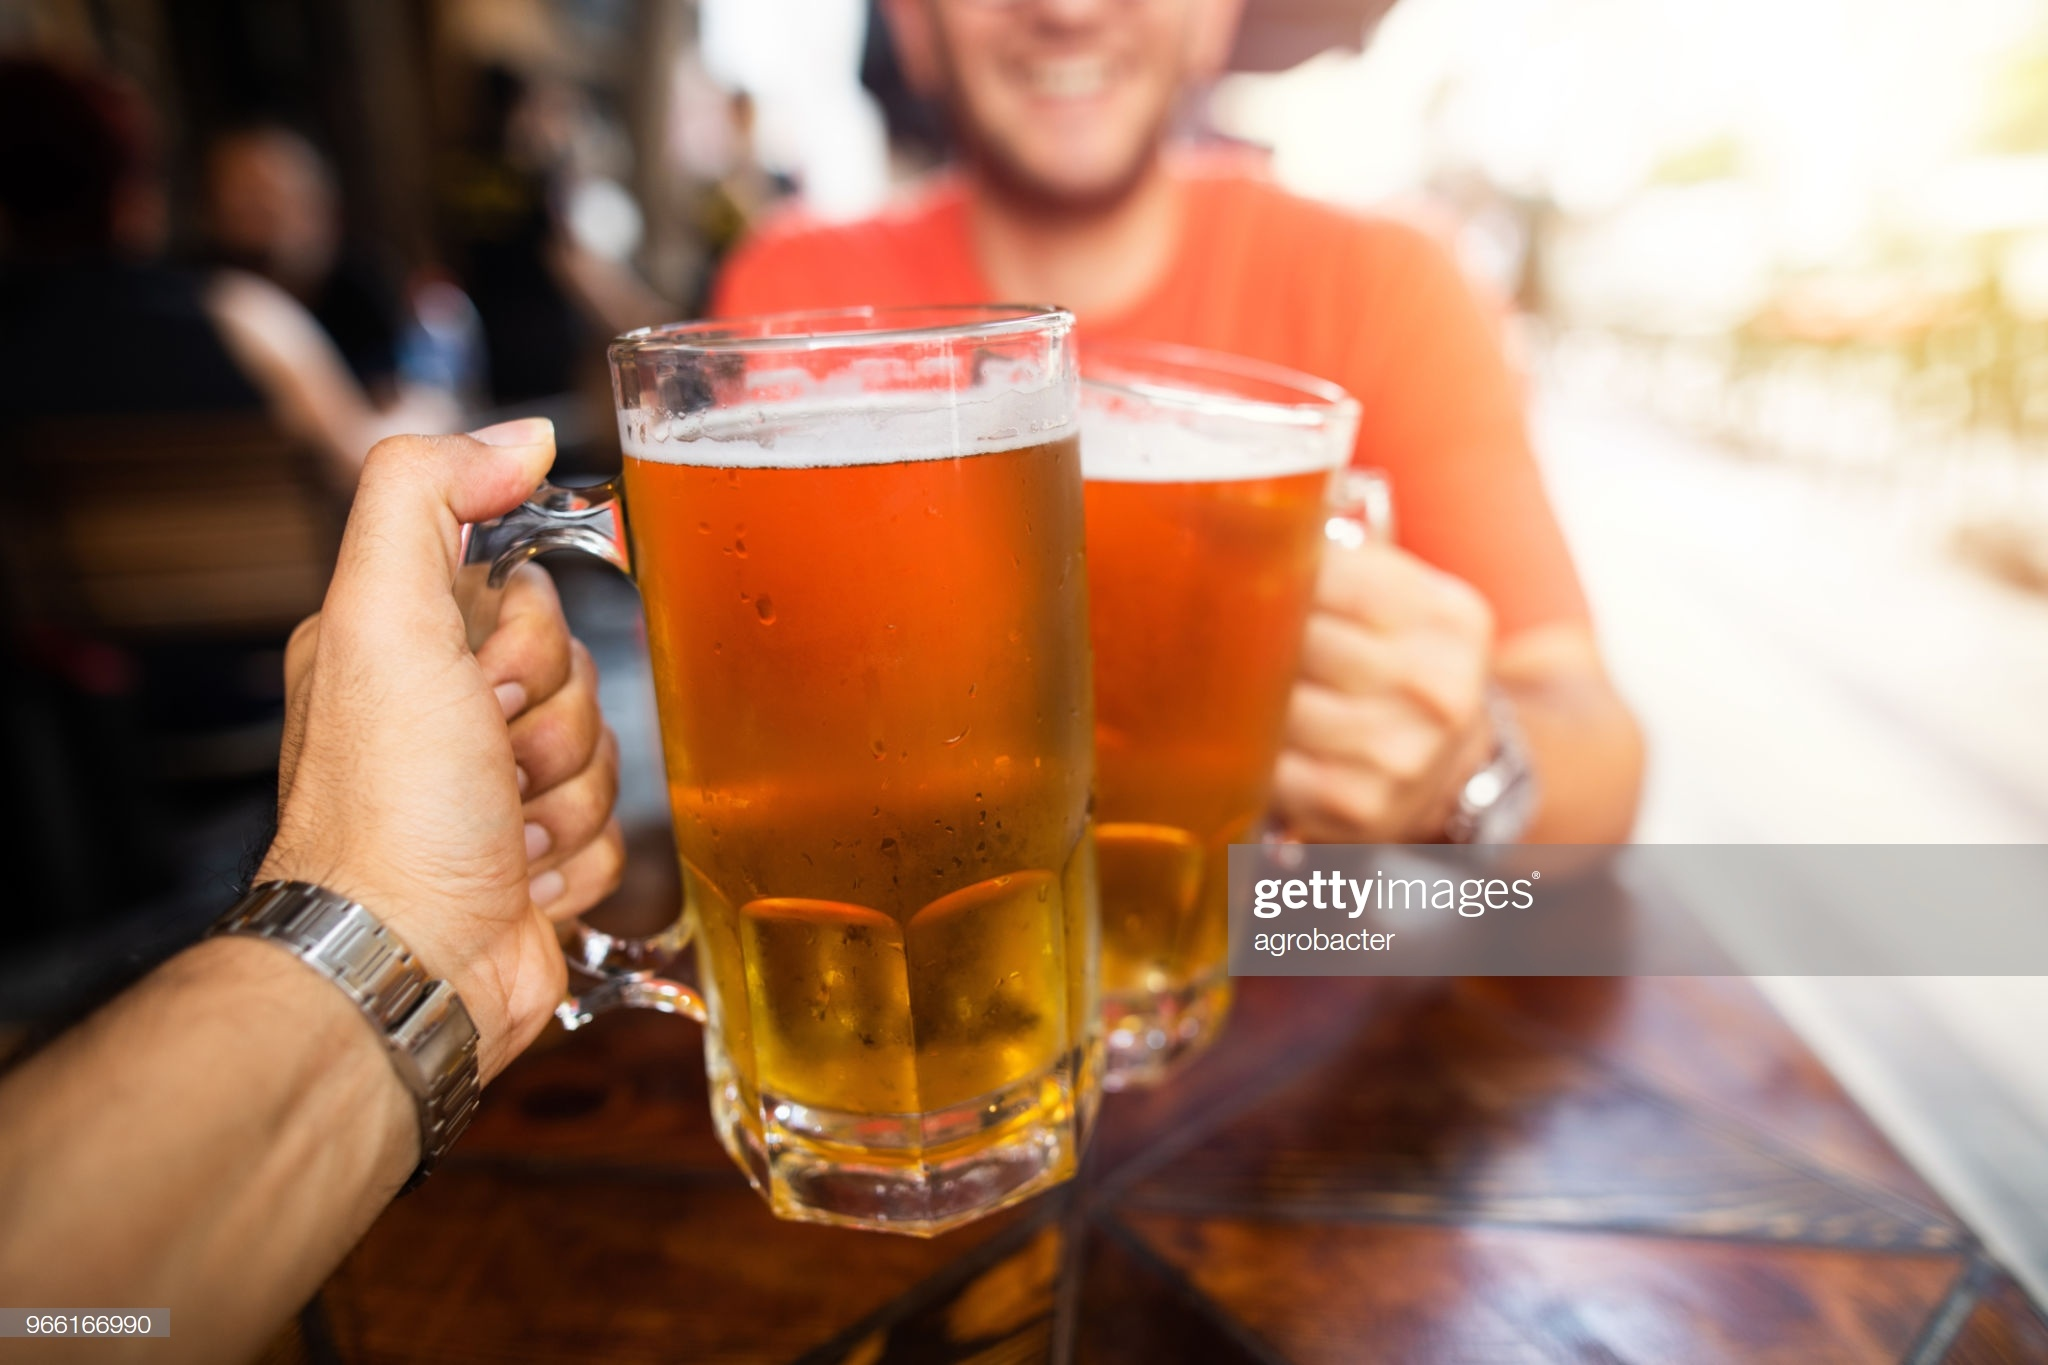glassBeer: (649, 277, 1099, 1213)
